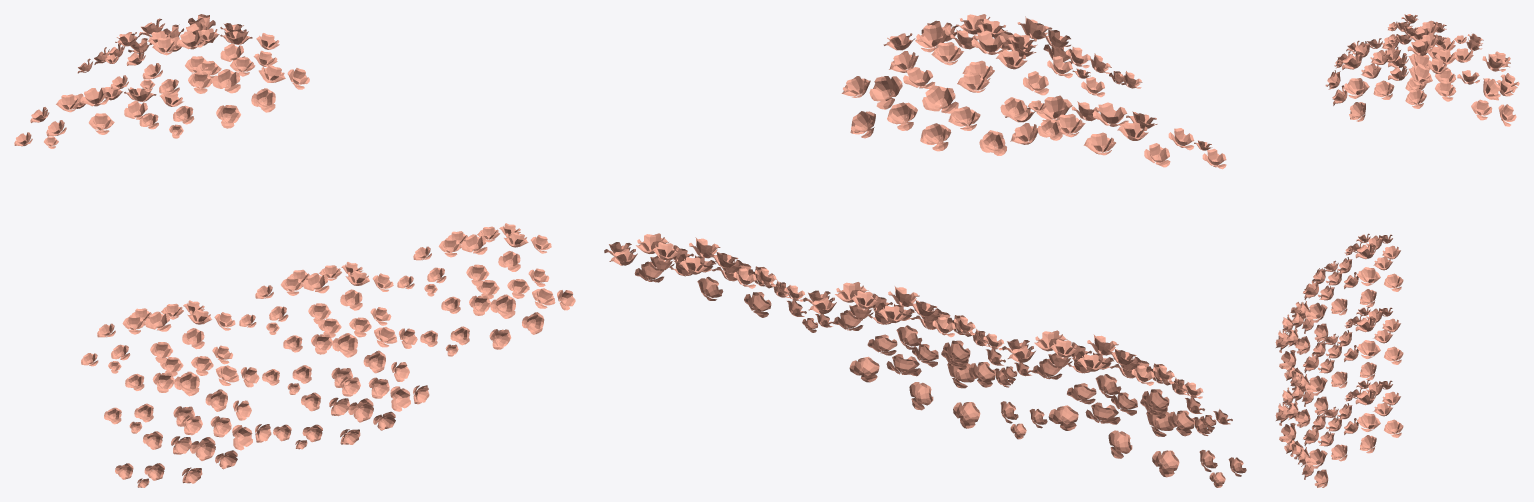
The model's file is 27_openskp_material_68.obj.
3 views of the same model, side by side, from view 1: azimuth 30°, elevation 25°; view 2: azimuth 150°, elevation 25°; view 3: azimuth 270°, elevation 25° (orthographic). The views are drawn at different scales.
Visible parts, largest first — view 1: 27_openskp_material_68; view 2: 27_openskp_material_68; view 3: 27_openskp_material_68.
Part boxes in pixels (x1=…): 27_openskp_material_68: x1=14, y1=14, x2=575, y2=487; 27_openskp_material_68: x1=604, y1=14, x2=1246, y2=487; 27_openskp_material_68: x1=1275, y1=14, x2=1519, y2=487.
Bounding box in the file's own units: 45.75 × 32.59 × 19.93.
